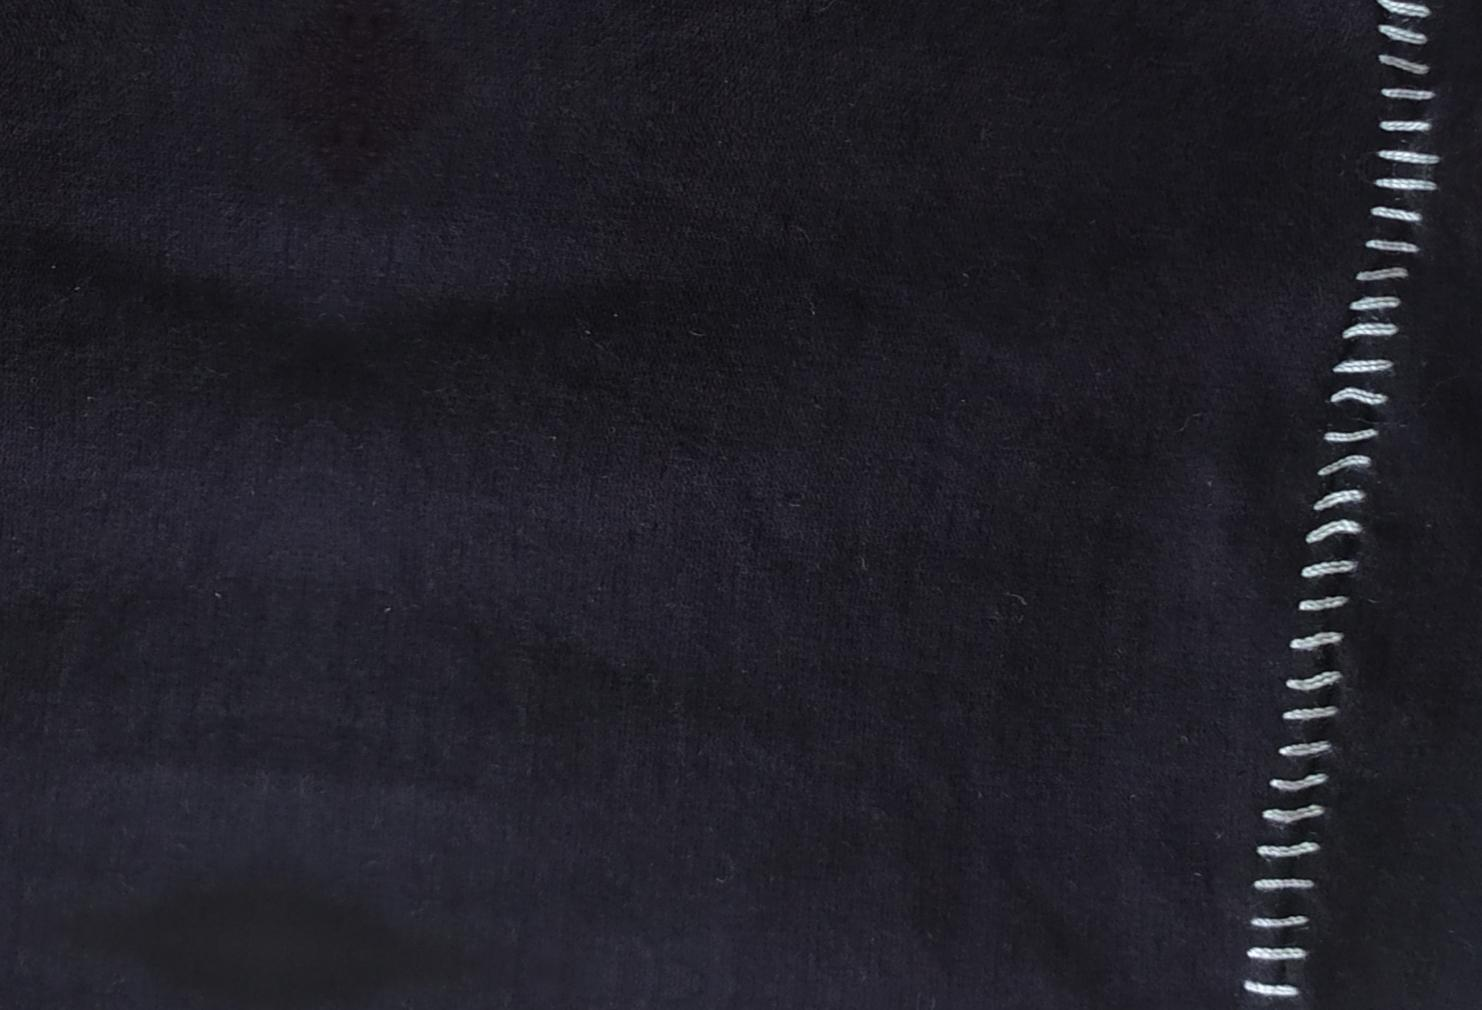slub: (1240, 0, 1479, 1005)
